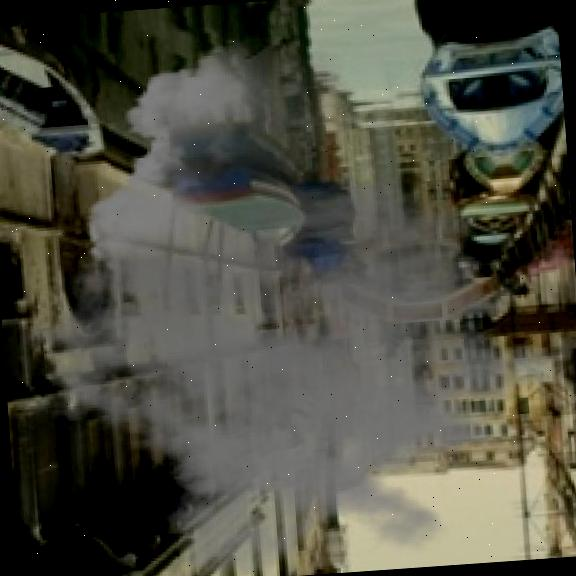smoke: (3, 15, 576, 576)
